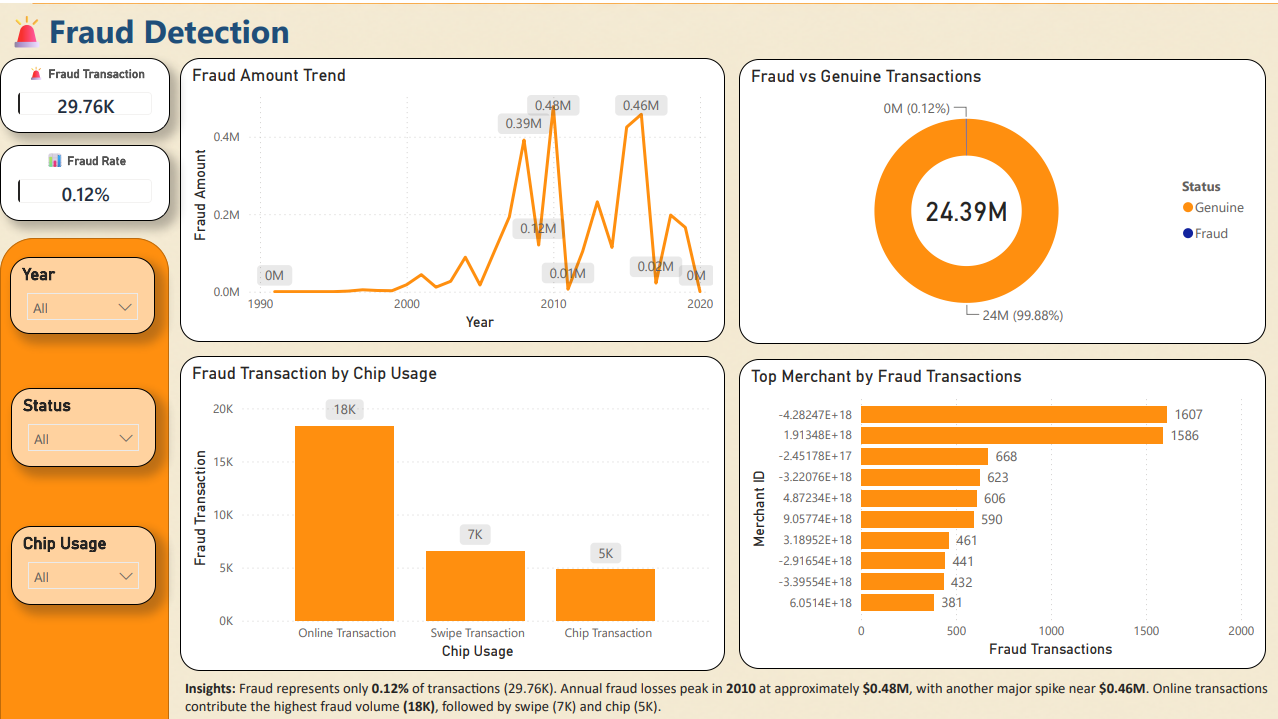

The page's visual inventory and layout, read from the dashboard file:
{"tool":"powerbi","page":{"name":"Fraud Detection","canvas":[1280,720],"ordinal":2},"visuals":[{"type":"textbox","box":[0,0,327.1,53],"z":0},{"type":"lineChart","title":"Fraud Amount Trend","fields":{"Category":["vw_Fraud_Analysis_updated.Year"],"Y":["Sum(vw_Fraud_Analysis_updated.FraudAmount)"]},"box":[180.2,54.5,545.1,284.7],"z":1000},{"type":"columnChart","title":"Fraud Transaction by Chip Usage","fields":{"Category":["vw_Fraud_Analysis_updated.ChipUsage"],"Y":["Sum(Fraud Analysis.FraudTransactions)"]},"box":[180.2,352.8,545.1,315],"z":3000},{"type":"barChart","title":"Top Merchant by Fraud Transactions","fields":{"Category":["vw_Fraud_Analysis_updated.MerchantName"],"Y":["Sum(Fraud Analysis.FraudTransactions)"]},"box":[738.9,355.8,526.9,310.4],"z":4000},{"type":"shape","box":[0,234.7,169,484.5],"z":5000},{"type":"cardVisual","title":"🚨 Fraud Transaction","fields":{"Data":["Sum(Fraud Analysis.FraudTransactions)"]},"box":[0,54.5,169.6,75.7],"z":6000},{"type":"cardVisual","title":"📊  Fraud Rate","fields":{"Data":["Card Analysis.Fraud Rate %"]},"box":[0,142.3,169.6,75.7],"z":7000},{"type":"slicer","title":"Status","fields":{"Values":["vw_Fraud_Status.FraudStatus"]},"box":[11.3,385.4,145,78.7],"z":8000},{"type":"slicer","title":"Year","fields":{"Values":["Fraud Analysis.Year"]},"box":[10.3,254.1,145,77.4],"z":9000},{"type":"slicer","title":"Chip Usage","fields":{"Values":["Fraud Analysis.ChipUsage"]},"box":[10.5,523,145,78.7],"z":10000},{"type":"donutChart","title":"Fraud vs Genuine Transactions","fields":{"Category":["vw_Fraud_Status.FraudStatus"],"Y":["Sum(Fraud Status.TotalTransactions)"]},"box":[738.9,56,526.9,284.7],"z":11000},{"type":"textbox","box":[180.2,670.8,1099.3,48.5],"z":12000}]}

Visuals, with their boxes in screenshot pixels (x1, y1, x2, y2), scaled from the page's 1280x720 canvas onto the 1278x719 screenshot:
textbox: 0,0,327,53
"Fraud Amount Trend" lineChart: 180,54,724,339
"Fraud Transaction by Chip Usage" columnChart: 180,352,724,667
"Top Merchant by Fraud Transactions" barChart: 738,355,1264,665
shape: 0,234,169,718
"🚨 Fraud Transaction" cardVisual: 0,54,169,130
"📊  Fraud Rate" cardVisual: 0,142,169,218
"Status" slicer: 11,385,156,463
"Year" slicer: 10,254,155,331
"Chip Usage" slicer: 10,522,155,601
"Fraud vs Genuine Transactions" donutChart: 738,56,1264,340
textbox: 180,670,1277,718
